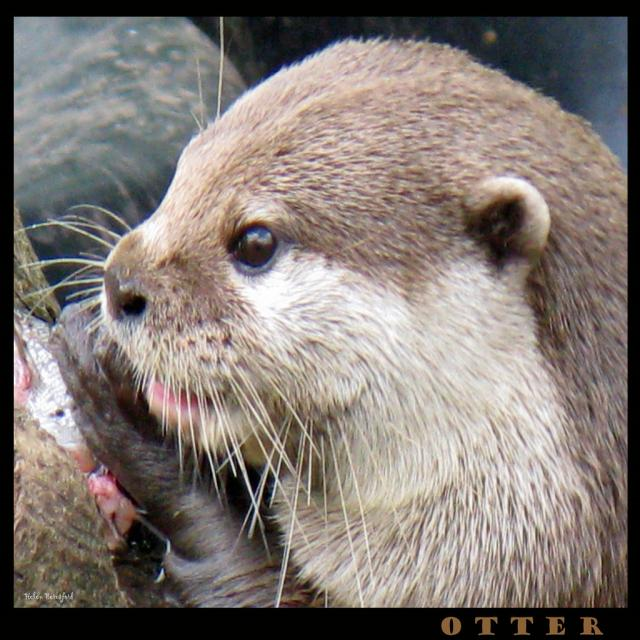otter: (106, 38, 627, 608)
